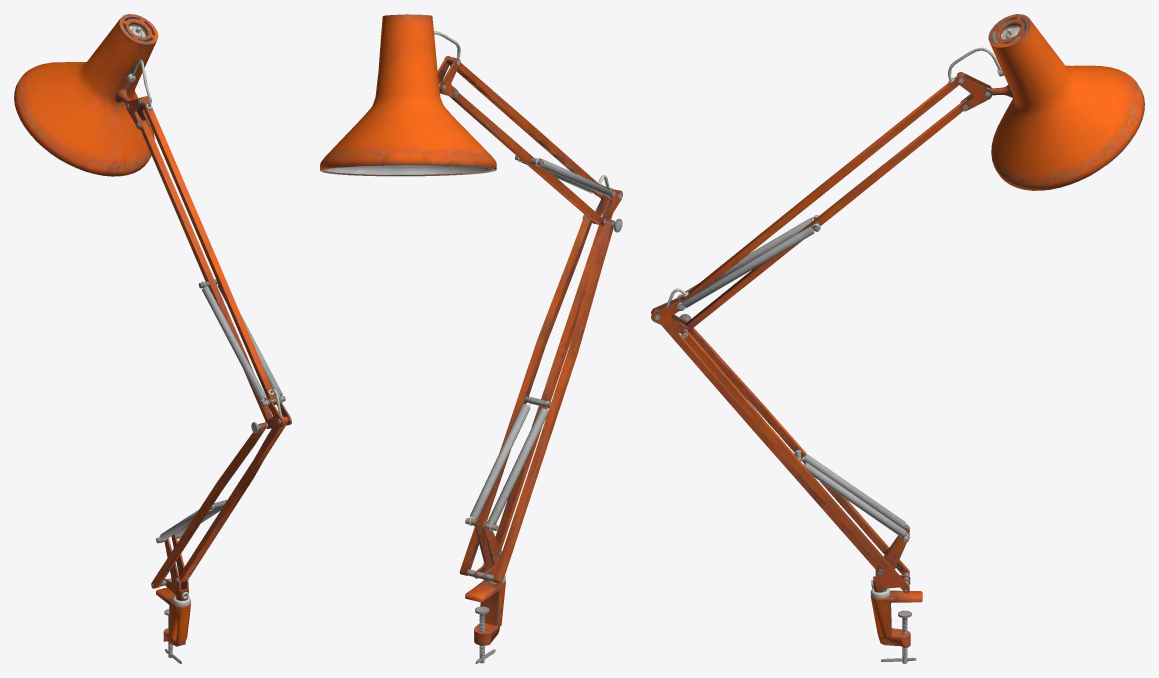
Rendered from desk_lamp_arm_01.glb.
3 renders of one model, left to right at view 1: azimuth 30°, elevation 25°; view 2: azimuth 150°, elevation 25°; view 3: azimuth 270°, elevation 25°, orthographic. The views are drawn at different scales.
Parts seen in each view (by area): view 1: desk_lamp_arm_01; view 2: desk_lamp_arm_01; view 3: desk_lamp_arm_01.
Boxes of the visible parts, <box> form: desk_lamp_arm_01: <box>14,14,291,663</box>; desk_lamp_arm_01: <box>320,14,622,663</box>; desk_lamp_arm_01: <box>651,14,1144,663</box>.
Size of the model in its own units: 0.2017 by 0.8926 by 0.6139.
2 materials, 2 textured.
